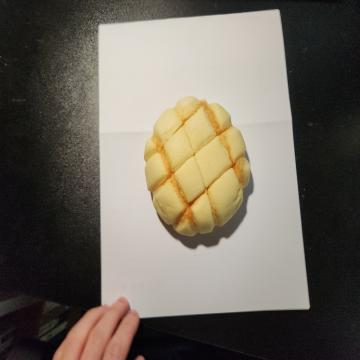melon_bread: (142, 96, 252, 238)
